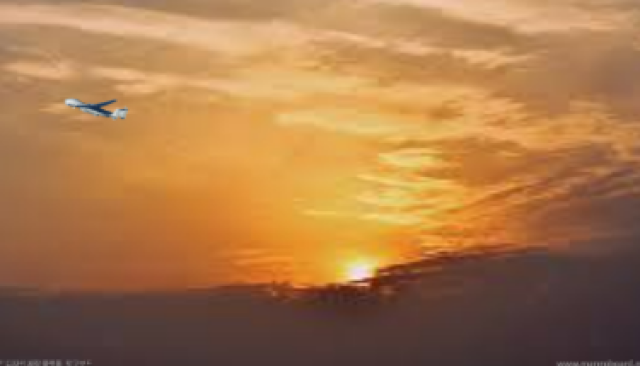military drone: (64, 97, 128, 121)
